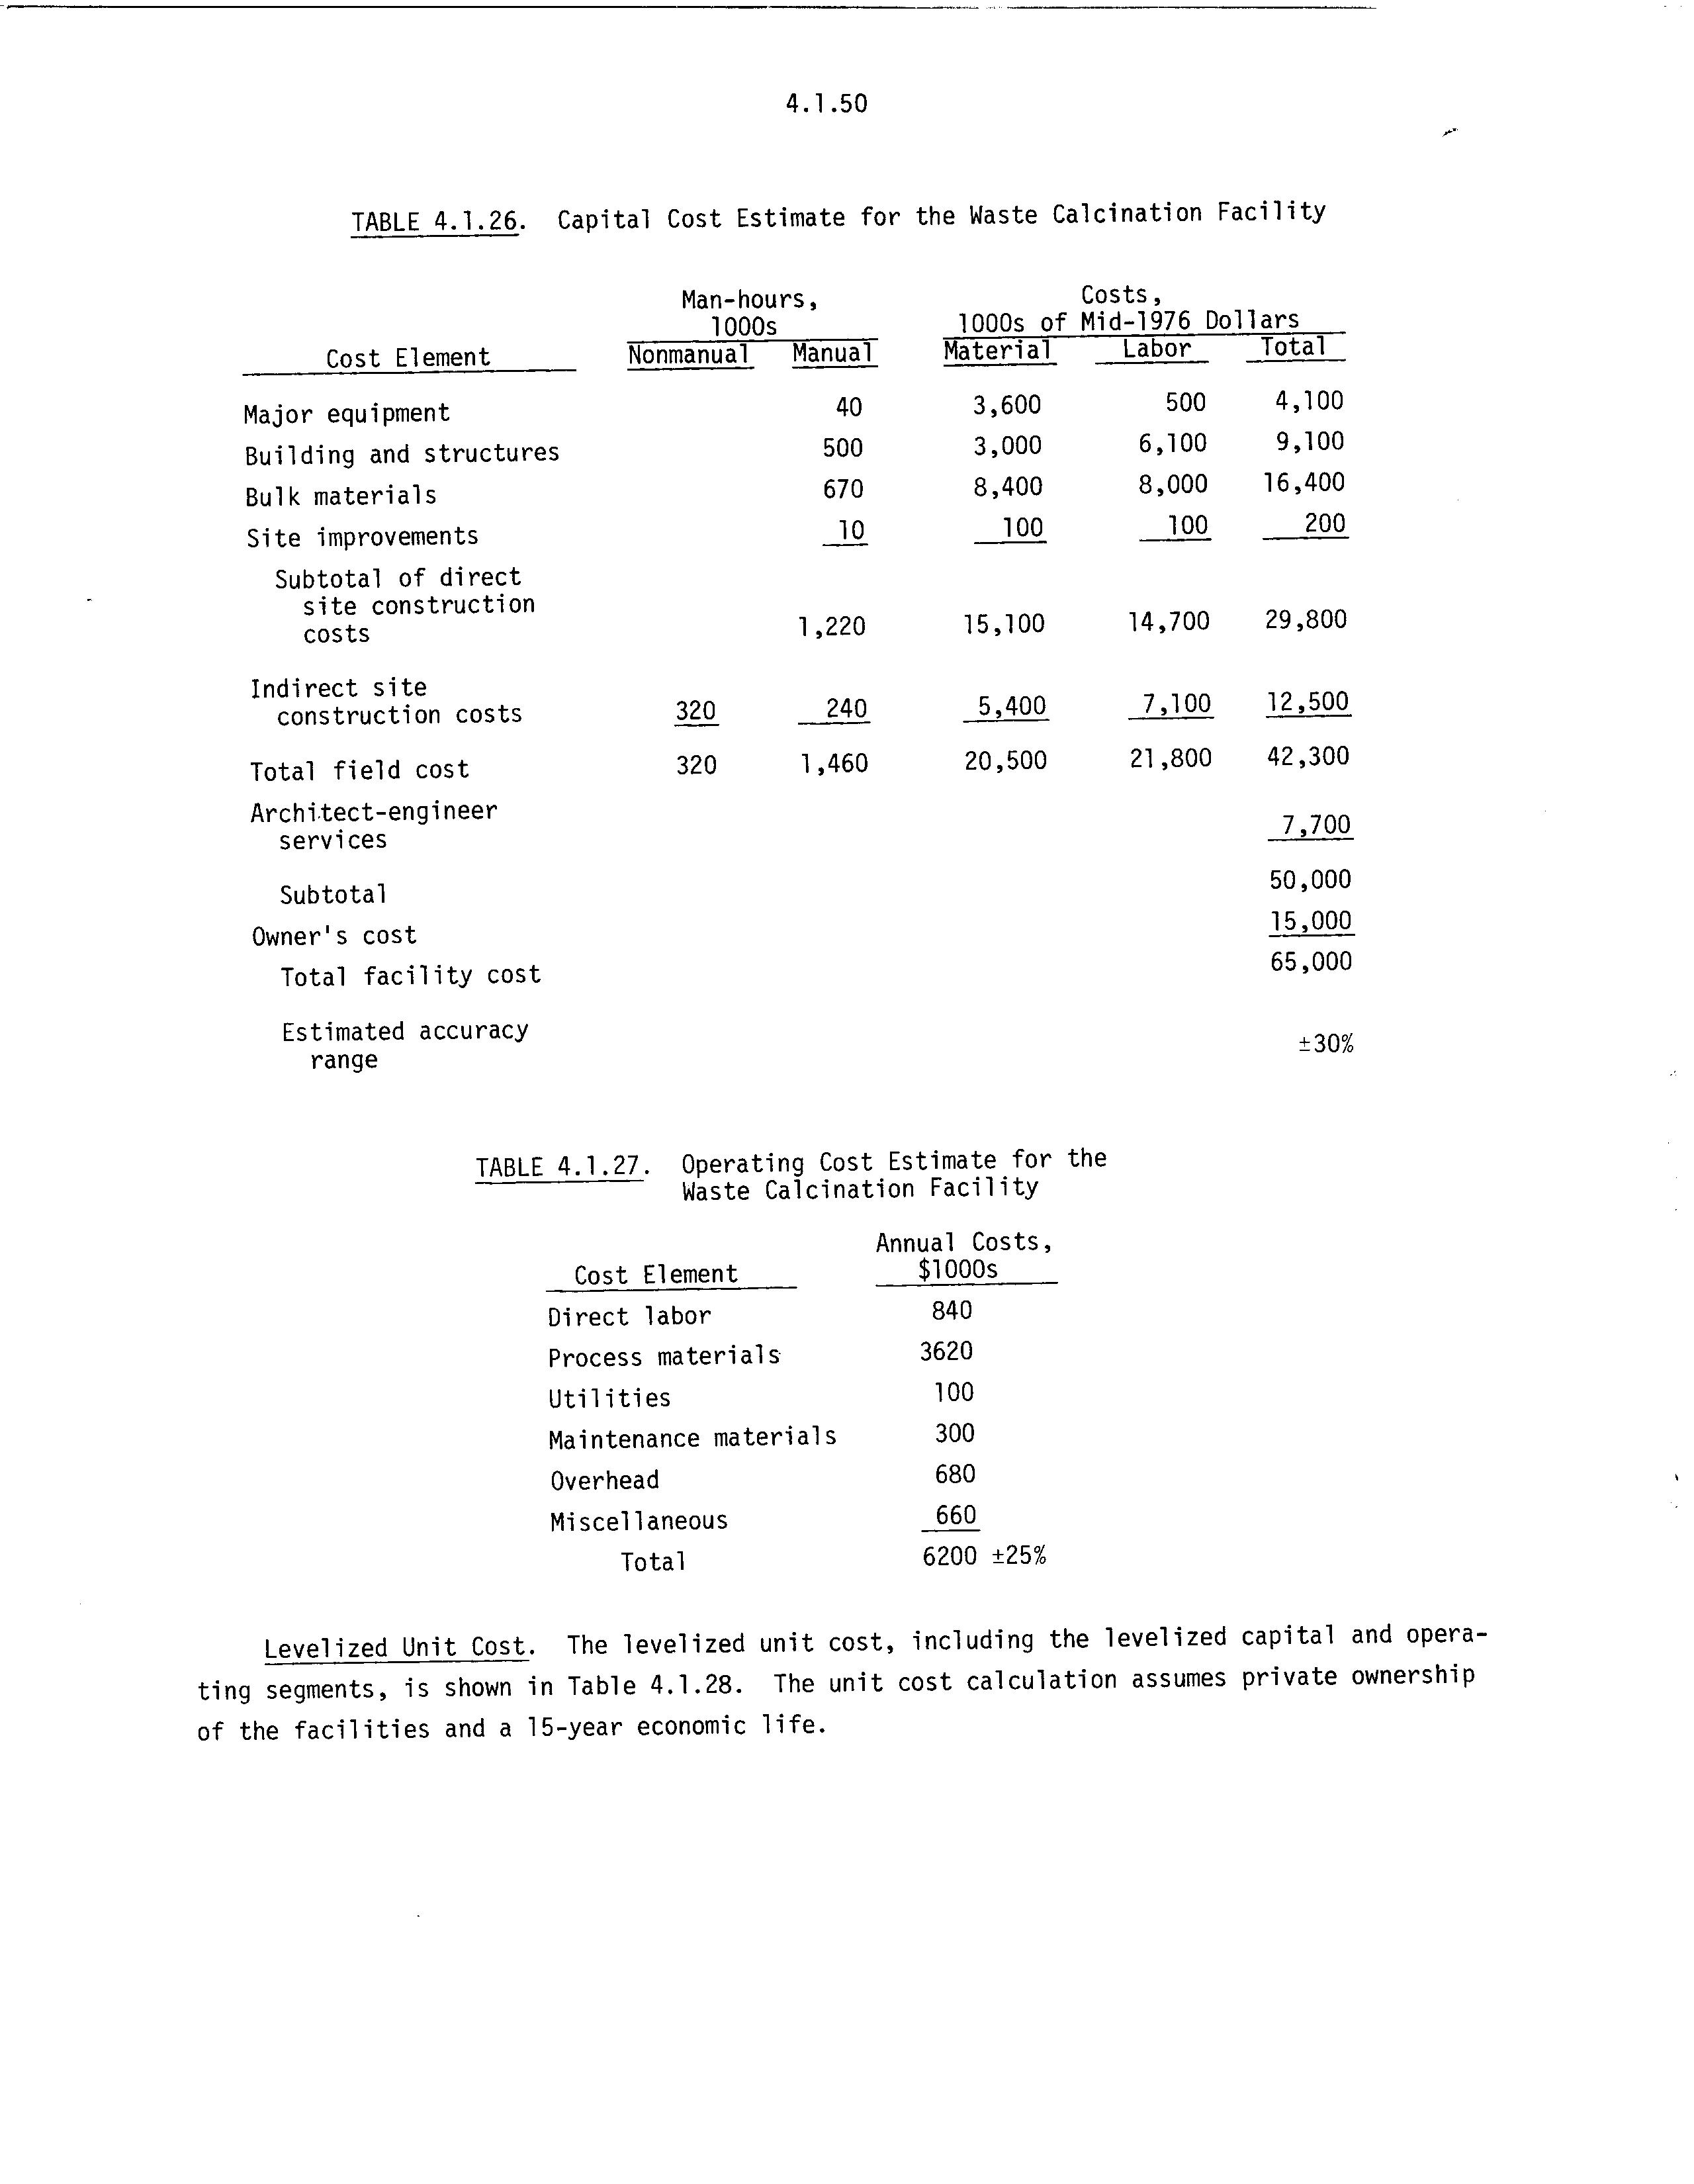boardless: (177, 199, 1478, 1111), (471, 1143, 1125, 1581)
